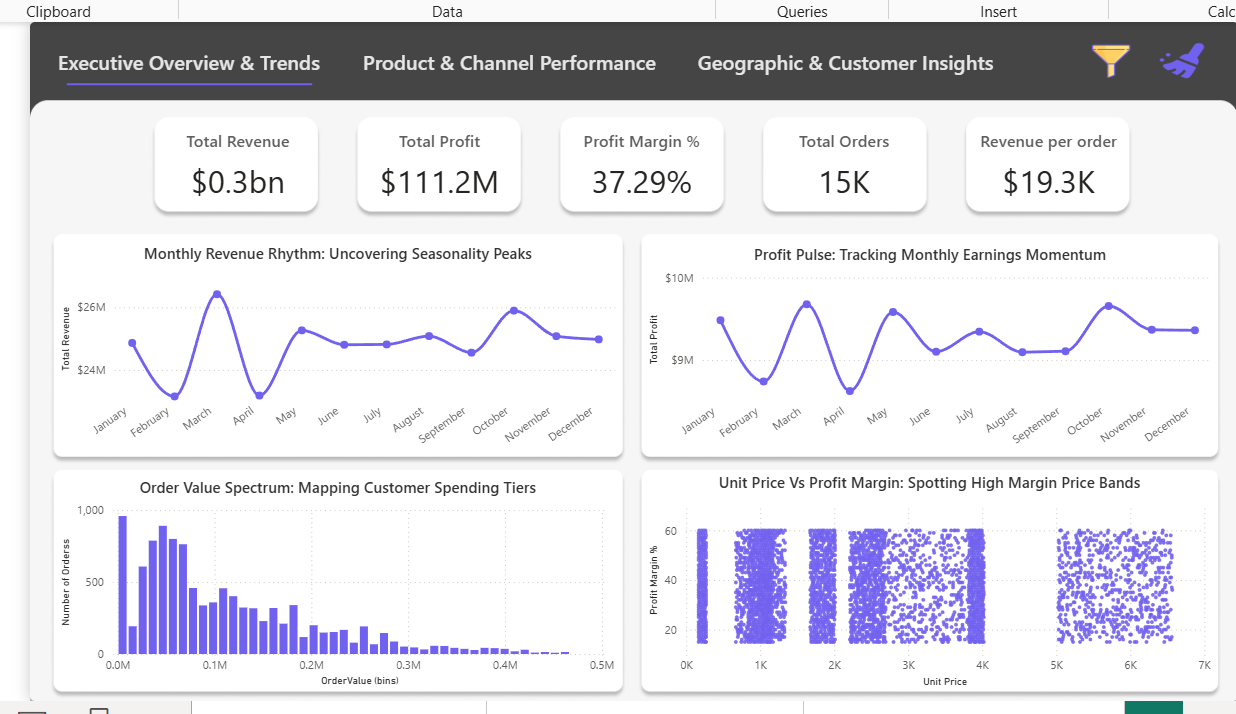

The dashboard page shown, as its layout file describes it:
{"tool":"powerbi","page":{"name":"Executive Overview & Trends","canvas":[1280,720],"ordinal":1},"visuals":[{"type":"cardVisual","fields":{"Data":["Measures_.Total Revenue"]},"box":[142,101,158,104],"z":0},{"type":"cardVisual","fields":{"Data":["Measures_.Total Profit"]},"box":[350,100,169.2,103.8],"z":1000},{"type":"cardVisual","fields":{"Data":["Measures_.Profit Margin %"]},"box":[552.6,100,194.9,103.8],"z":2000},{"type":"cardVisual","fields":{"Data":["Measures_.Total Orders"]},"box":[787.2,100,152.6,103.8],"z":3000},{"type":"cardVisual","fields":{"Data":["Measures_.Revenue per order"]},"box":[988.3,100,185,103.3],"z":4000},{"type":"lineChart","title":"Monthly Revenue Rhythm: Uncovering Seasonality Peaks","fields":{"Category":["Sales_data.order_month_name"],"Y":["Measures_.Total Revenue"]},"box":[26.9,233.3,598.7,235.9],"z":5000},{"type":"lineChart","title":"Profit Pulse: Tracking Monthly Earnings Momentum","fields":{"Category":["Sales_data.order_month_name"],"Y":["Measures_.Total Profit"]},"box":[650,234.6,607.7,234.6],"z":6000},{"type":"scatterChart","title":"Unit Price Vs Profit Margin: Spotting High Margin Price Bands","fields":{"X":["Sales_data.unit_price"],"Y":["Sales_data.profit_margin_pct"]},"box":[650,476.9,606.4,232.1],"z":7000},{"type":"columnChart","title":"Order Value Spectrum: Mapping Customer Spending Tiers","fields":{"Category":["Order_Value_Distribution.OrderValue (bins)"],"Y":["CountNonNull(Order_Value_Distribution.order_number)"]},"box":[26.9,482.1,598.7,226.9],"z":8000},{"type":"actionButton","box":[337.2,14.1,342.3,55.1],"z":10000},{"type":"actionButton","box":[9,14.1,317.9,55.1],"z":11000},{"type":"actionButton","box":[693.8,13.8,342.5,55],"z":12000},{"type":"actionButton","box":[1188,14,70,55],"z":14000},{"type":"actionButton","box":[1120,21,53,42],"z":14500}]}

Visuals, with their boxes on the page's 1280x720 design canvas (x1, y1, x2, y2). These are canvas units, not pixel positions in the 1236x714 screenshot, which may show the page scaled, cropped or inside an application window:
cardVisual - Measures_.Total Revenue: (x1=142, y1=101, x2=300, y2=205)
cardVisual - Measures_.Total Profit: (x1=350, y1=100, x2=519, y2=204)
cardVisual - Measures_.Profit Margin %: (x1=553, y1=100, x2=748, y2=204)
cardVisual - Measures_.Total Orders: (x1=787, y1=100, x2=940, y2=204)
cardVisual - Measures_.Revenue per order: (x1=988, y1=100, x2=1173, y2=203)
"Monthly Revenue Rhythm: Uncovering Seasonality Peaks" lineChart: (x1=27, y1=233, x2=626, y2=469)
"Profit Pulse: Tracking Monthly Earnings Momentum" lineChart: (x1=650, y1=235, x2=1258, y2=469)
"Unit Price Vs Profit Margin: Spotting High Margin Price Bands" scatterChart: (x1=650, y1=477, x2=1256, y2=709)
"Order Value Spectrum: Mapping Customer Spending Tiers" columnChart: (x1=27, y1=482, x2=626, y2=709)
actionButton: (x1=337, y1=14, x2=680, y2=69)
actionButton: (x1=9, y1=14, x2=327, y2=69)
actionButton: (x1=694, y1=14, x2=1036, y2=69)
actionButton: (x1=1188, y1=14, x2=1258, y2=69)
actionButton: (x1=1120, y1=21, x2=1173, y2=63)
